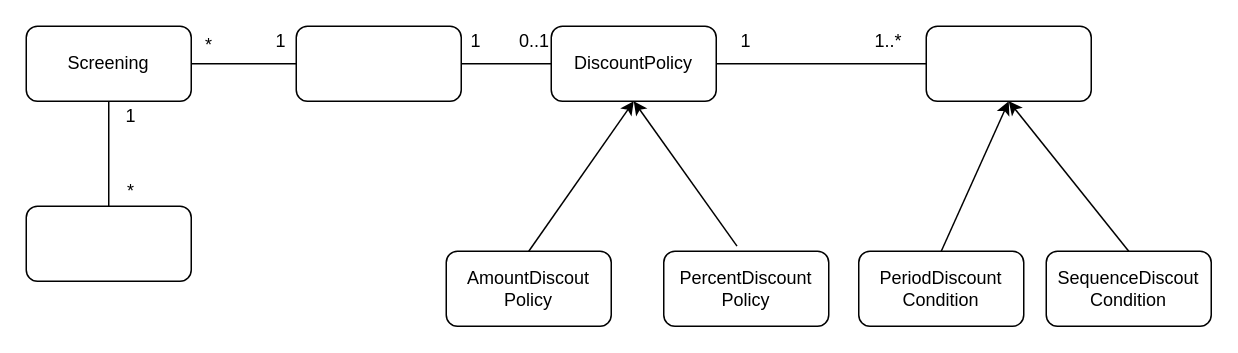
Image size: 1238x353. Some labels were removed from this diagram. Each missing label, with the box of its shape:
DiscoutCondition: (925, 25, 1091, 101)
Movie: (295, 25, 461, 101)
Reservation: (25, 205, 191, 281)
